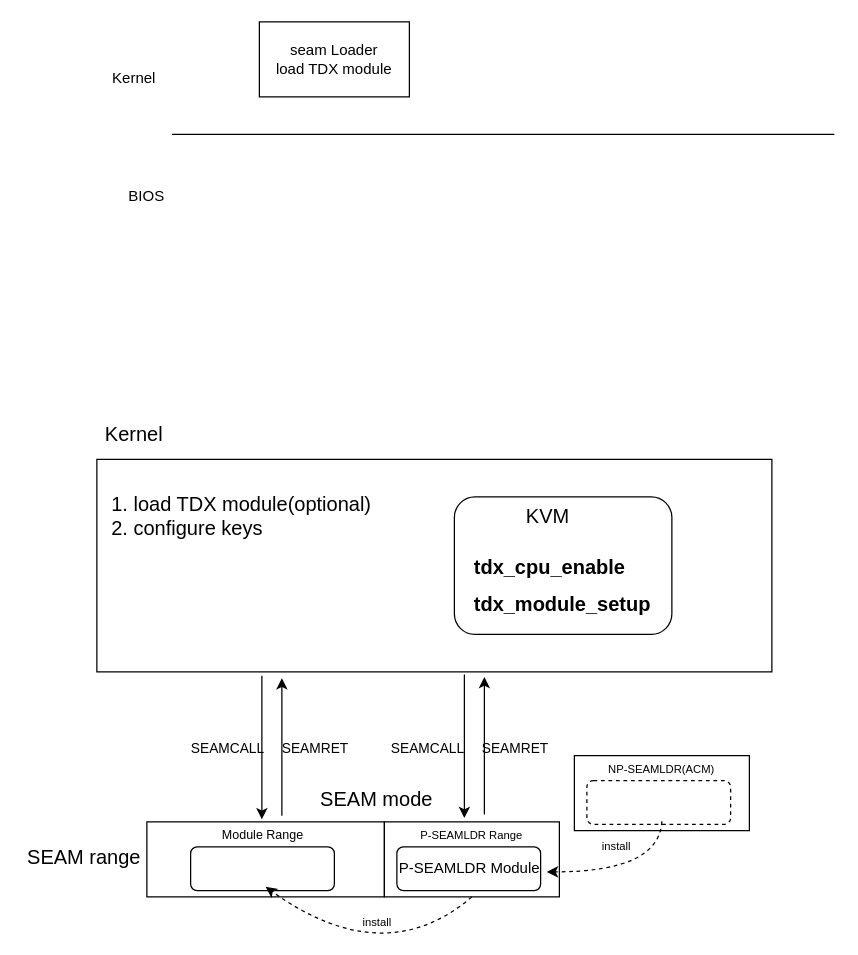
Some shapes in this 858 by 955 pixel diagram are drawn without their labels. The centre of each missing label's shape, as x and y in pixels:
"P-SEAMLDR Module image" goes at (658,801).
"TDX Module" goes at (261,868).
